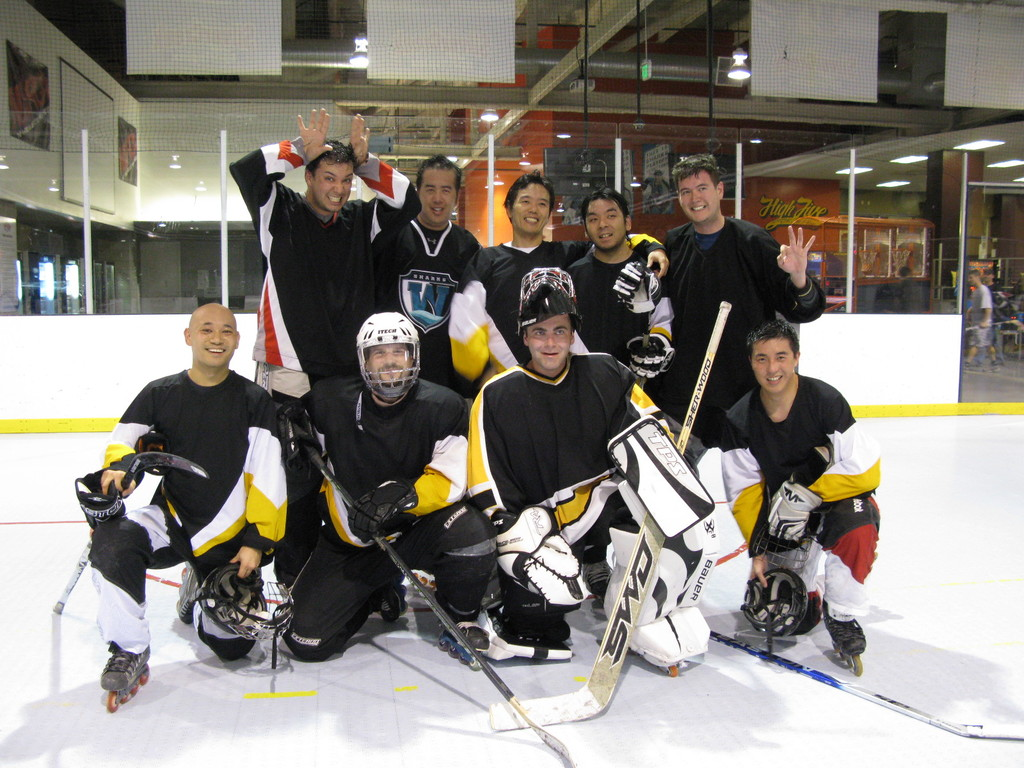Person: (87, 108, 880, 690)
